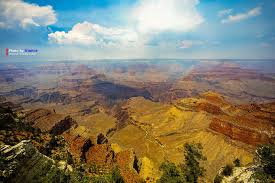mountain: (7, 64, 272, 182)
sky: (2, 1, 267, 61)
